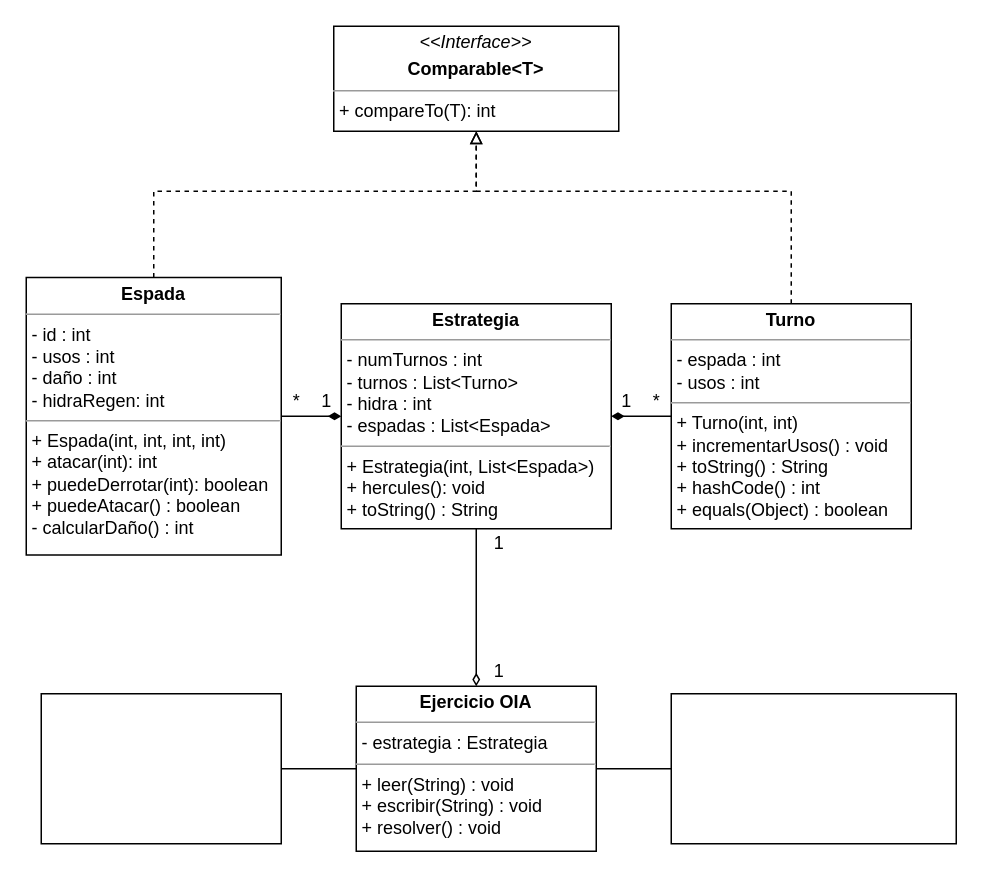
The diagram is 983 pixels wide and 878 high, and some of its shapes have lost their labels. Each missing label, with the centre of its shape:
"Escritor - Escritor() + escribir(String, Estrategia): void" goes at point 813,768.
"Lector - Lector() + leer(String): Estrategia" goes at point 160,768.
